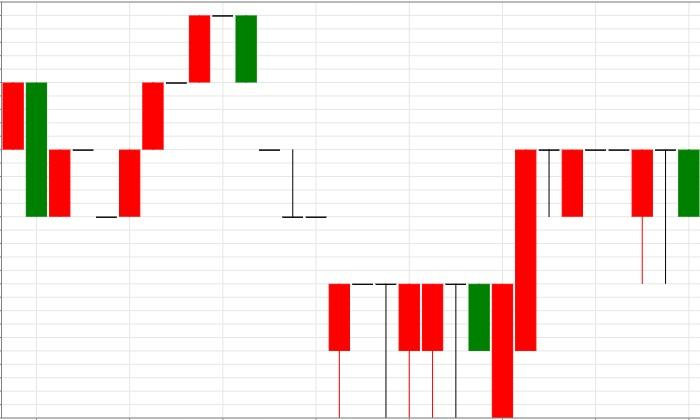evening_star_fall: (119, 14, 257, 217)
